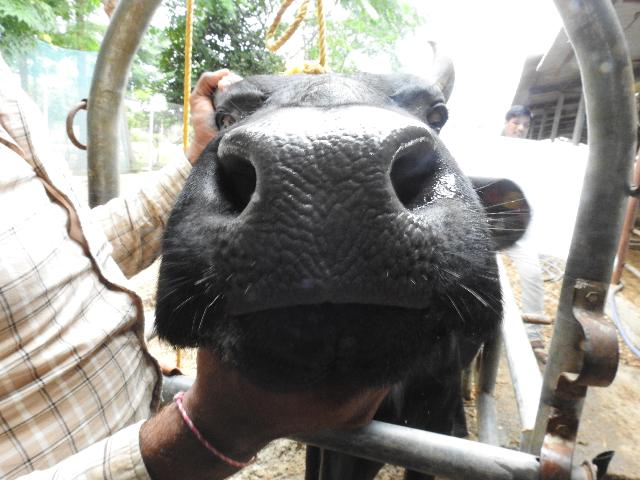Muzzle: (233, 127, 423, 277)
